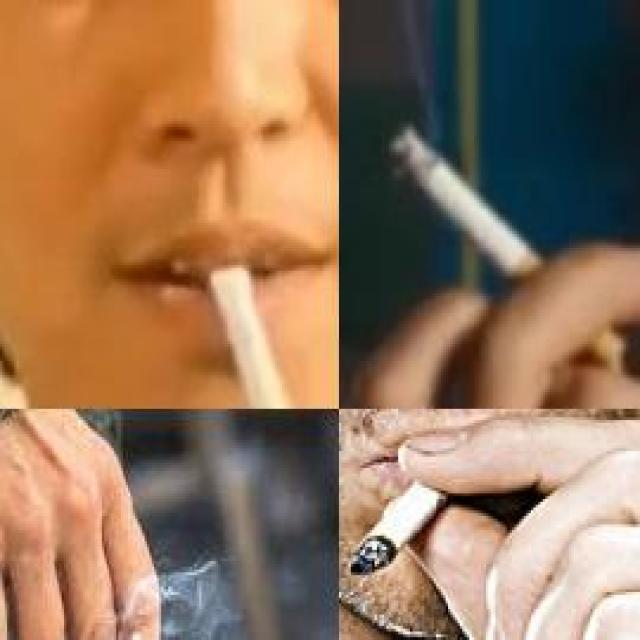smoking: (388, 122, 624, 370), (202, 239, 296, 406), (344, 481, 446, 576)
